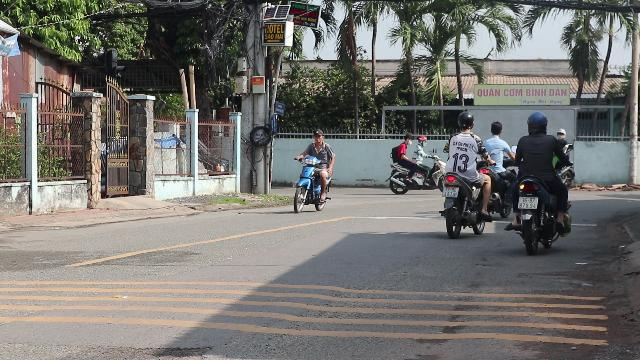helmet: (526, 110, 548, 134), (456, 112, 474, 132)
licenseplate: (518, 197, 538, 209), (442, 187, 458, 197)
motorcyclist: (508, 111, 574, 253), (436, 111, 488, 237)
nohelmet: (489, 120, 503, 136)
